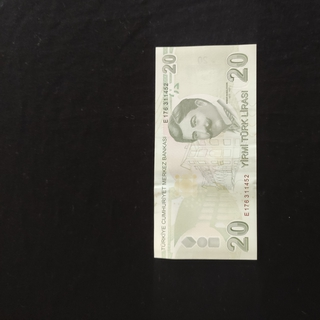20TLBack: (154, 43, 258, 260)
